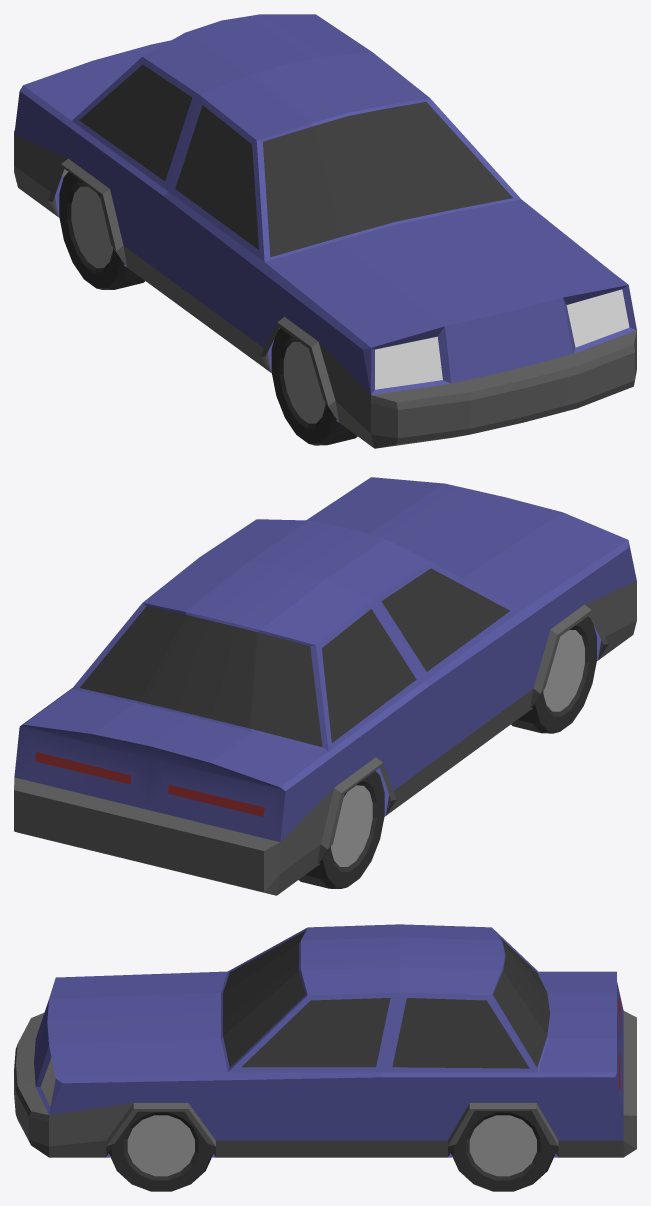
Rendered from Car_V2.fbx.
3 renders of one model, top to bottom at view 1: azimuth 30°, elevation 25°; view 2: azimuth 150°, elevation 25°; view 3: azimuth 270°, elevation 25°, orthographic. The views are drawn at different scales.
Parts seen in each view (by area): view 1: Car_V2; view 2: Car_V2; view 3: Car_V2.
Boxes of the visible parts, x1,y1,x2,y2 form: Car_V2: (14, 14, 636, 448); Car_V2: (14, 477, 636, 895); Car_V2: (14, 924, 636, 1191).
Bounding box in the file's own units: 3.31 × 2.68 × 7.92.
